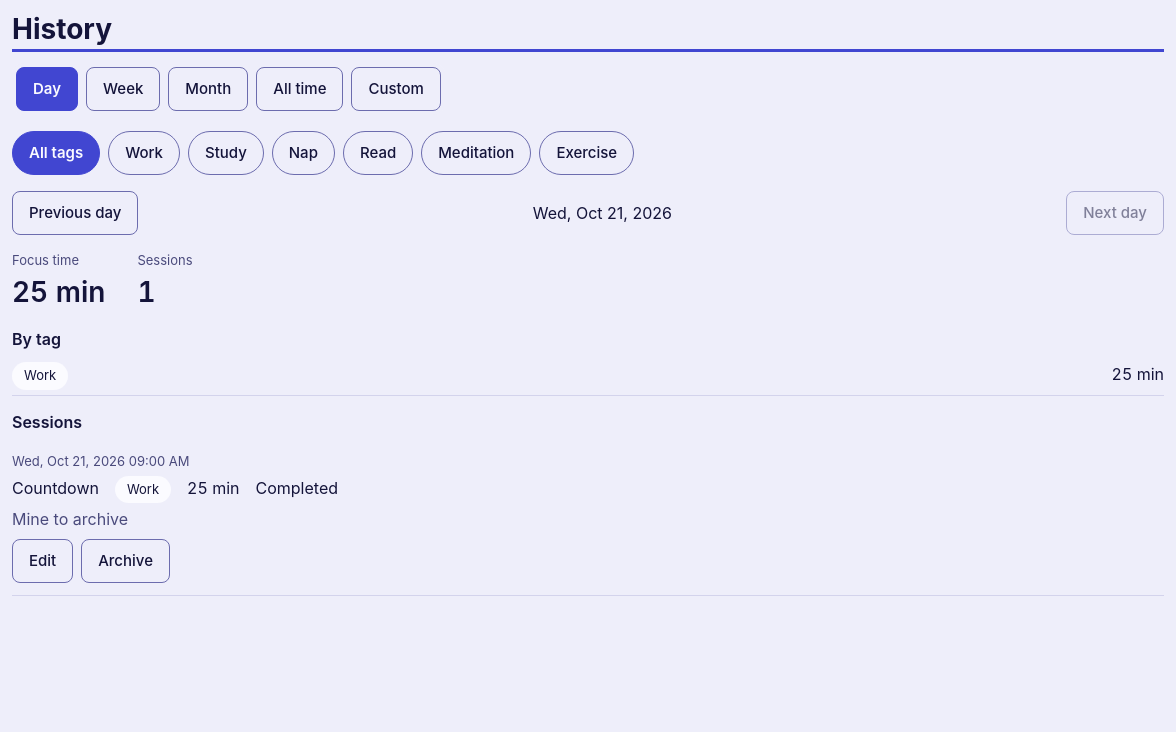
Test case: a session restored on another device (#228) › keeps the mark of a session archived here when an older answer still lists it
Expected: the text "Mine to archive" is shown, [12,509,128,529]
Click the button "Archive" at (126, 561), box [81,539,170,583]
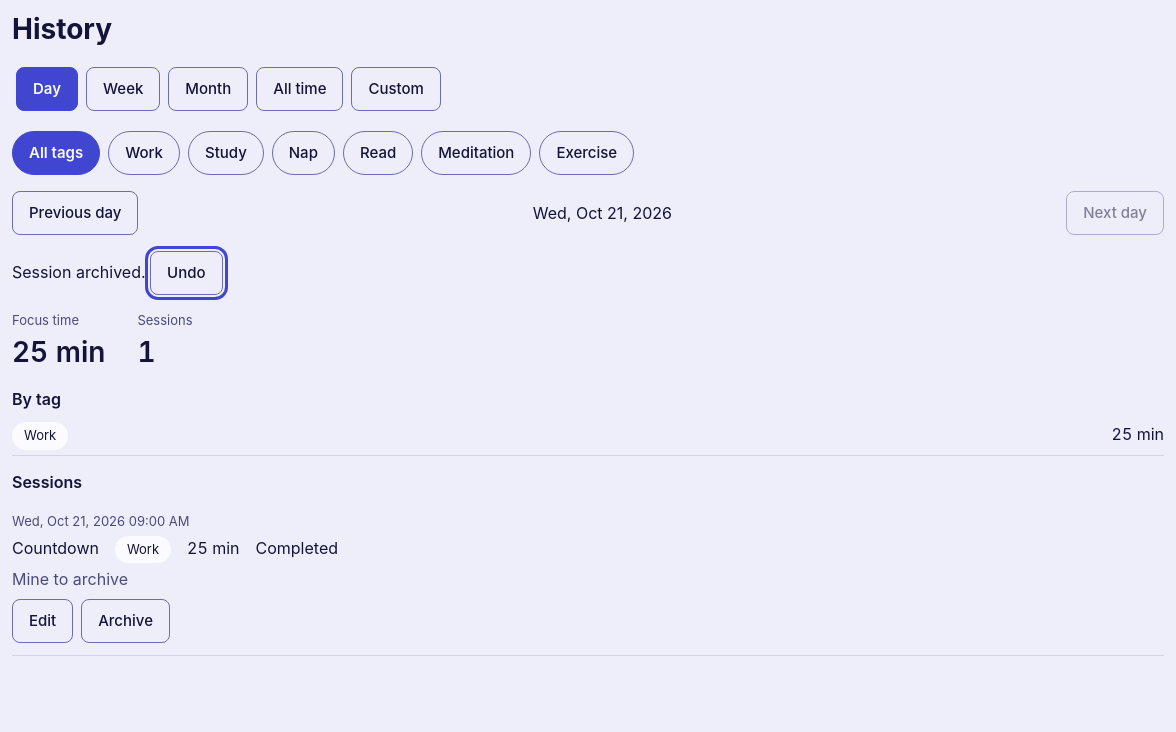
Expected: the text "Session archived." is shown, [12,262,146,282]
